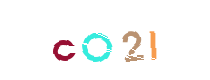0: (56, 0, 136, 80)
2: (64, 0, 144, 80)
C: (22, 0, 102, 80)
L: (94, 0, 174, 80)
